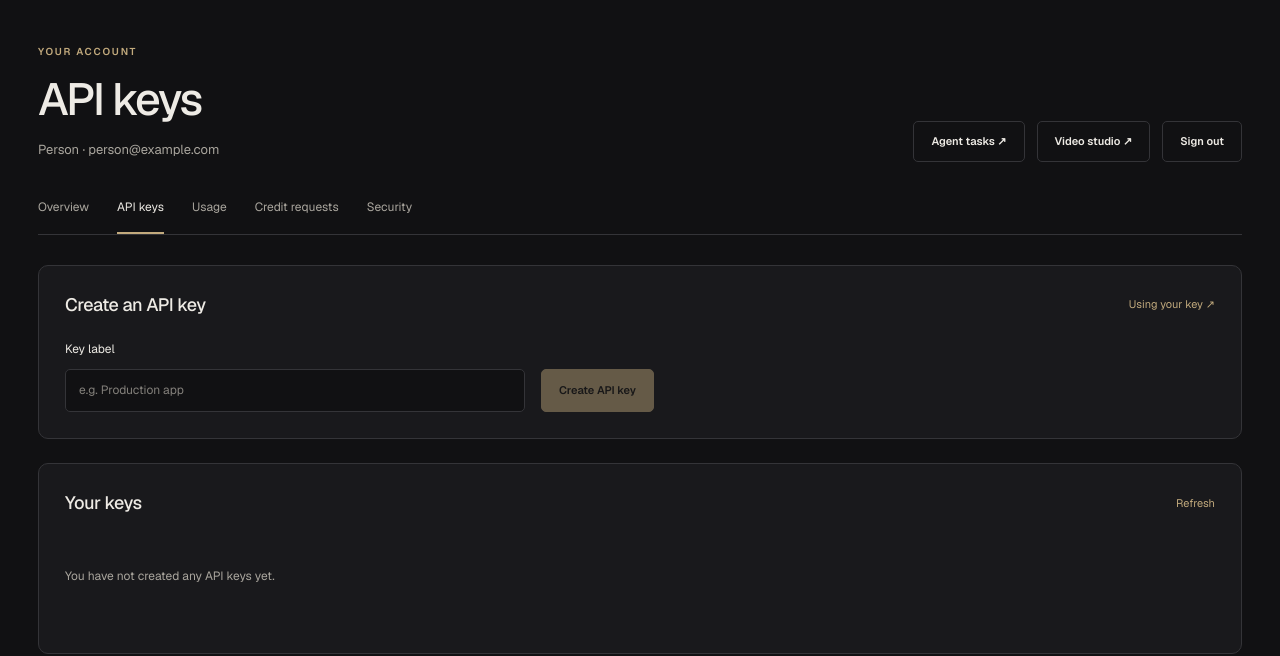
Test case: account portal › reveals a newly issued key once, supports copying and clears the secret on dismissal
The image size is (1280, 656).
Type "Staging" into the field labelled "Key label". click: [295, 390]
box: 65,369 -> 525,412
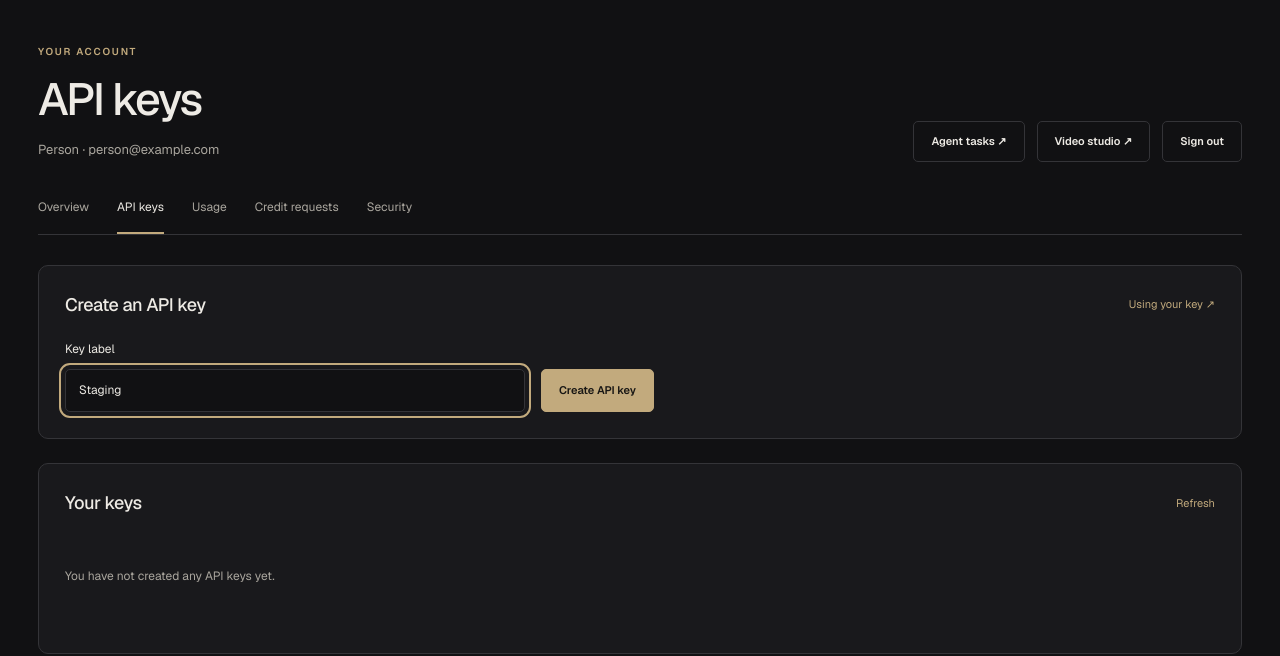
Click the button "Create API key". click: [598, 390]
box: 541,369 -> 654,412
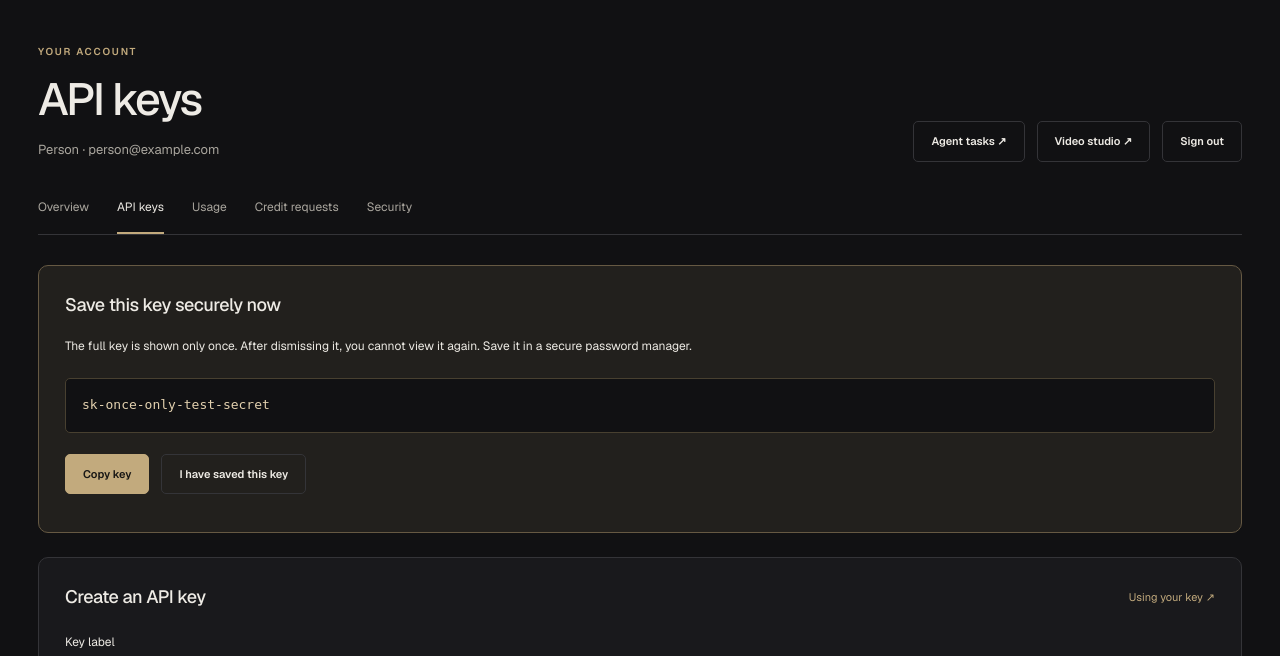
Expected: the text "sk-once-only-test-secret" is shown, 65,378 -> 1215,433
Click the button "Copy key". click: [107, 474]
box: 65,454 -> 150,494
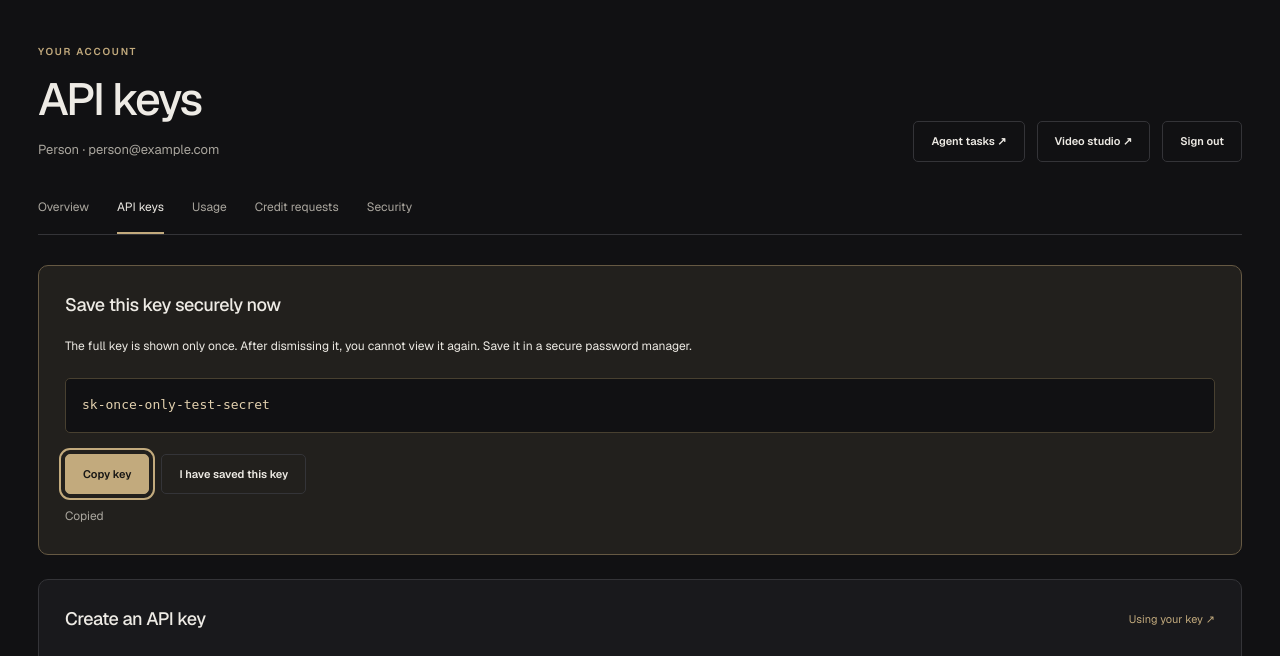
Click the button "I have saved this key". click: [234, 474]
box: 162,454 -> 306,494
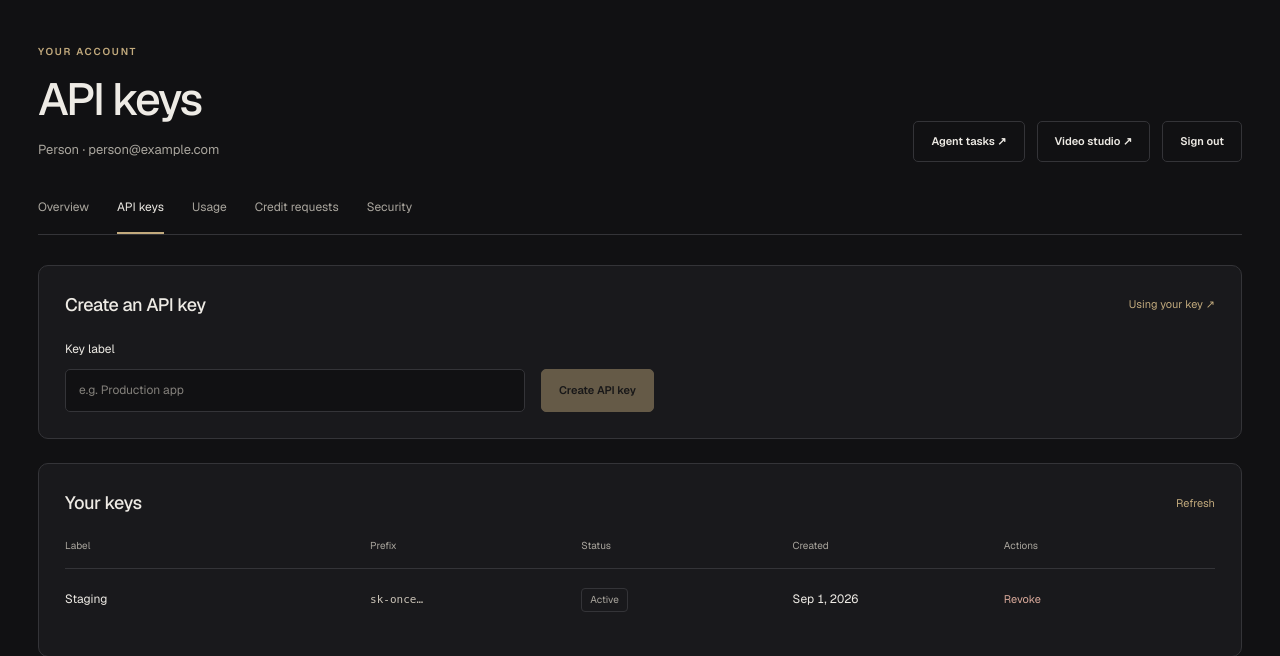
Expected: the text "sk-once-only-test-secret" is gone
